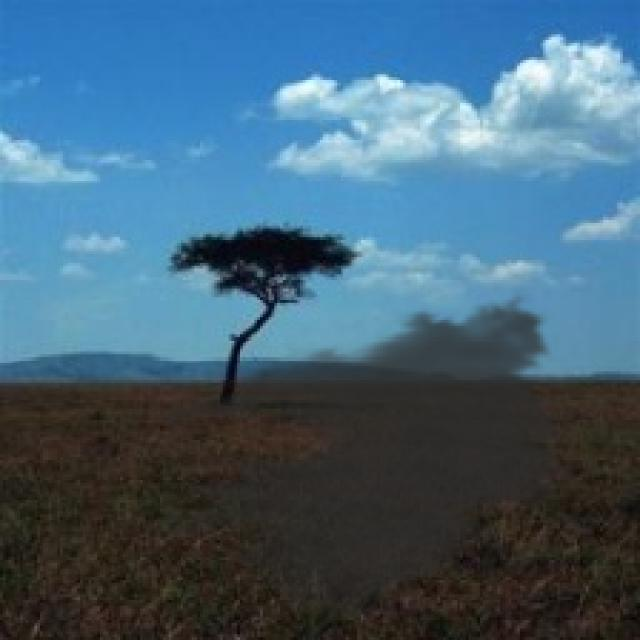smoke: (165, 286, 586, 631)
